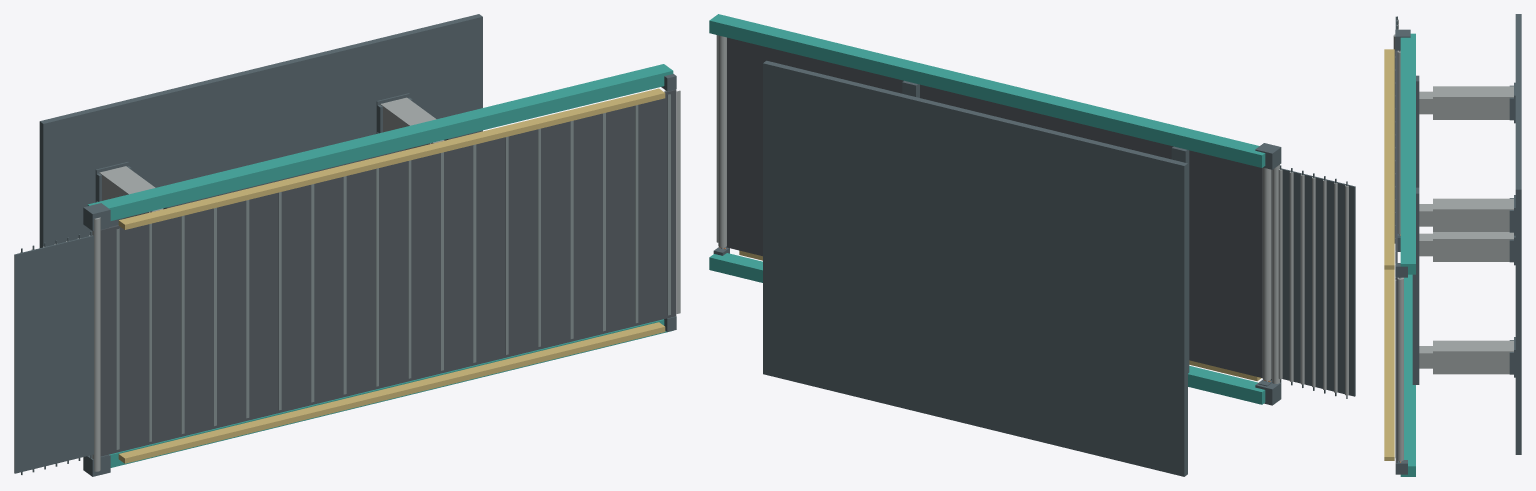
3 renders of one model, left to right at view 1: azimuth 30°, elevation 25°; view 2: azimuth 150°, elevation 25°; view 3: azimuth 270°, elevation 25°, orthographic. The views are drawn at different scales.
Visible parts, largest first — view 1: buffer_belt_contact, buffer_base_spreader, buffer_bridge_plate, buffer_stage_2_rail1, buffer_stage_2_guide-1, buffer_stage_2_guide1, buffer_stage_2_rail-1, buffer_bridge_hinge_shaft, buffer_stage_2_tail_deadplate, buffer_belt_texture_-0.750, buffer_belt_texture_0.780, buffer_belt_texture_-0.570 (+11 smaller); view 2: buffer_base_spreader, buffer_belt_contact, buffer_stage_2_rail1, buffer_bridge_plate, buffer_stage_2_rail-1, buffer_belt_rear_drum, buffer_belt_front_drum, buffer_bridge_hinge_shaft, bridge_roller_0_drum, bridge_roller_1_drum, bridge_roller_2_drum, bridge_roller_6_drum (+4 smaller); view 3: buffer_stage_2_rail1, buffer_base_spreader, buffer_stage_2_guide1, buffer_stage_2_guide-1, buffer_stage_2_rail-1, buffer_base_guide_2_x1, buffer_base_guide_0_x1, buffer_base_guide_1_x1, buffer_base_guide_3_x1, buffer_belt_front_drum, buffer_stage_2_crossbar0.36, buffer_belt_contact (+19 smaller).
Part boxes in pixels (x1,y1,x2,y2): buffer_belt_contact: (100,89,676,456); buffer_base_spreader: (39,14,482,247); buffer_bridge_plate: (14,235,93,473); buffer_stage_2_rail1: (87,64,673,220); buffer_stage_2_guide-1: (118,322,665,463); buffer_stage_2_guide1: (118,88,665,229); buffer_stage_2_rail-1: (109,319,671,467); buffer_bridge_hinge_shaft: (92,217,100,471); buffer_stage_2_tail_deadplate: (676,90,680,313); buffer_belt_texture_-0.750: (116,228,119,449); buffer_belt_texture_0.780: (667,94,670,315); buffer_belt_texture_-0.570: (181,215,184,433); buffer_base_spreader: (763,60,1187,476); buffer_belt_contact: (726,37,1271,380); buffer_stage_2_rail1: (709,14,1265,167); buffer_bridge_plate: (1279,168,1355,396); buffer_stage_2_rail-1: (709,253,1265,404); buffer_belt_rear_drum: (1262,167,1271,380); buffer_belt_front_drum: (718,35,726,247); buffer_bridge_hinge_shaft: (1272,164,1279,383); bridge_roller_0_drum: (1278,169,1282,379); bridge_roller_1_drum: (1289,171,1293,381); bridge_roller_2_drum: (1300,174,1304,384); bridge_roller_6_drum: (1345,185,1348,395); buffer_stage_2_rail1: (1400,33,1415,274); buffer_base_spreader: (1515,14,1521,454); buffer_stage_2_guide1: (1384,49,1394,269); buffer_stage_2_guide-1: (1384,269,1394,460); buffer_stage_2_rail-1: (1400,274,1415,476); buffer_base_guide_2_x1: (1433,350,1513,374); buffer_base_guide_0_x1: (1433,238,1513,261); buffer_base_guide_1_x1: (1433,96,1513,119); buffer_base_guide_3_x1: (1433,208,1513,231); buffer_belt_front_drum: (1397,277,1403,460); buffer_stage_2_crossbar0.36: (1412,187,1419,384); buffer_belt_contact: (1395,50,1397,462).
Bounding box in the file's own units: 1.85 × 0.86 × 0.403.
